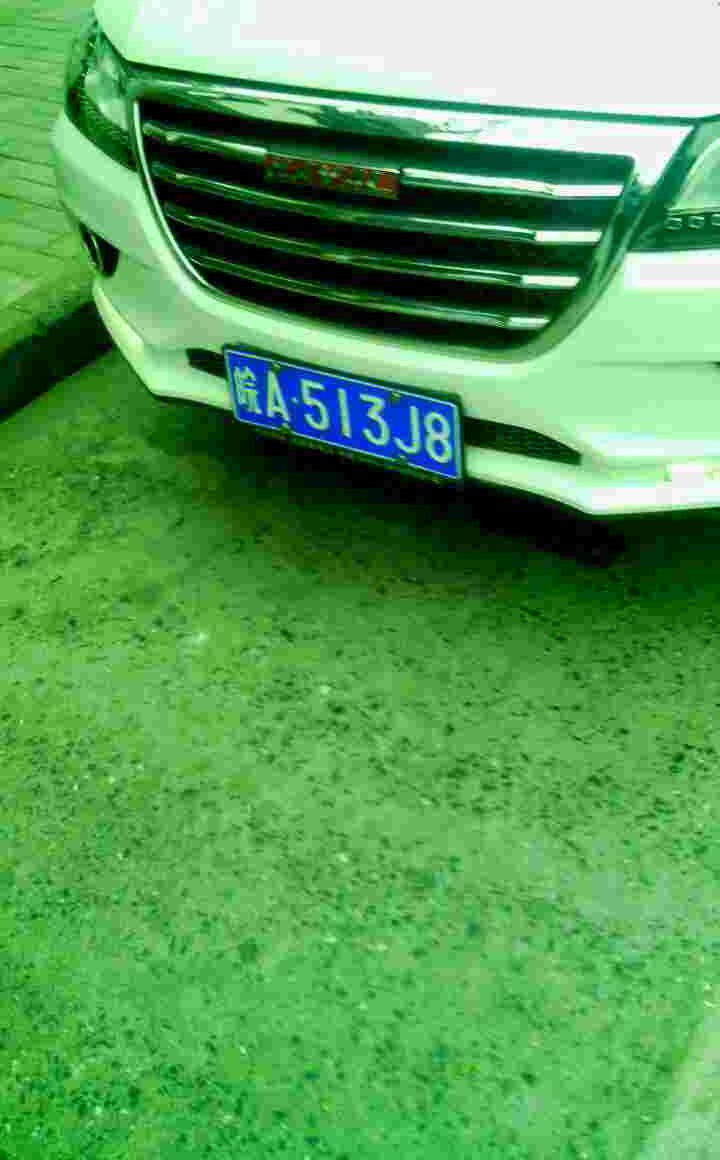license_plate: (231, 341, 467, 475)
